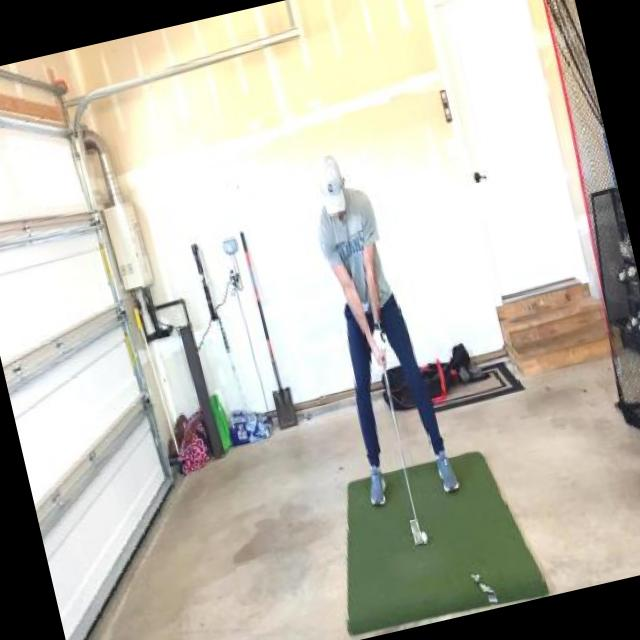club head: (410, 518, 422, 544)
